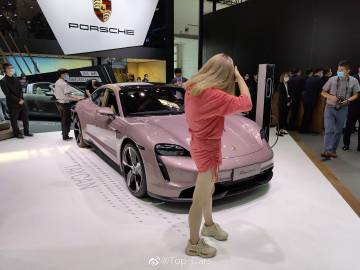su7: (73, 80, 274, 203)
